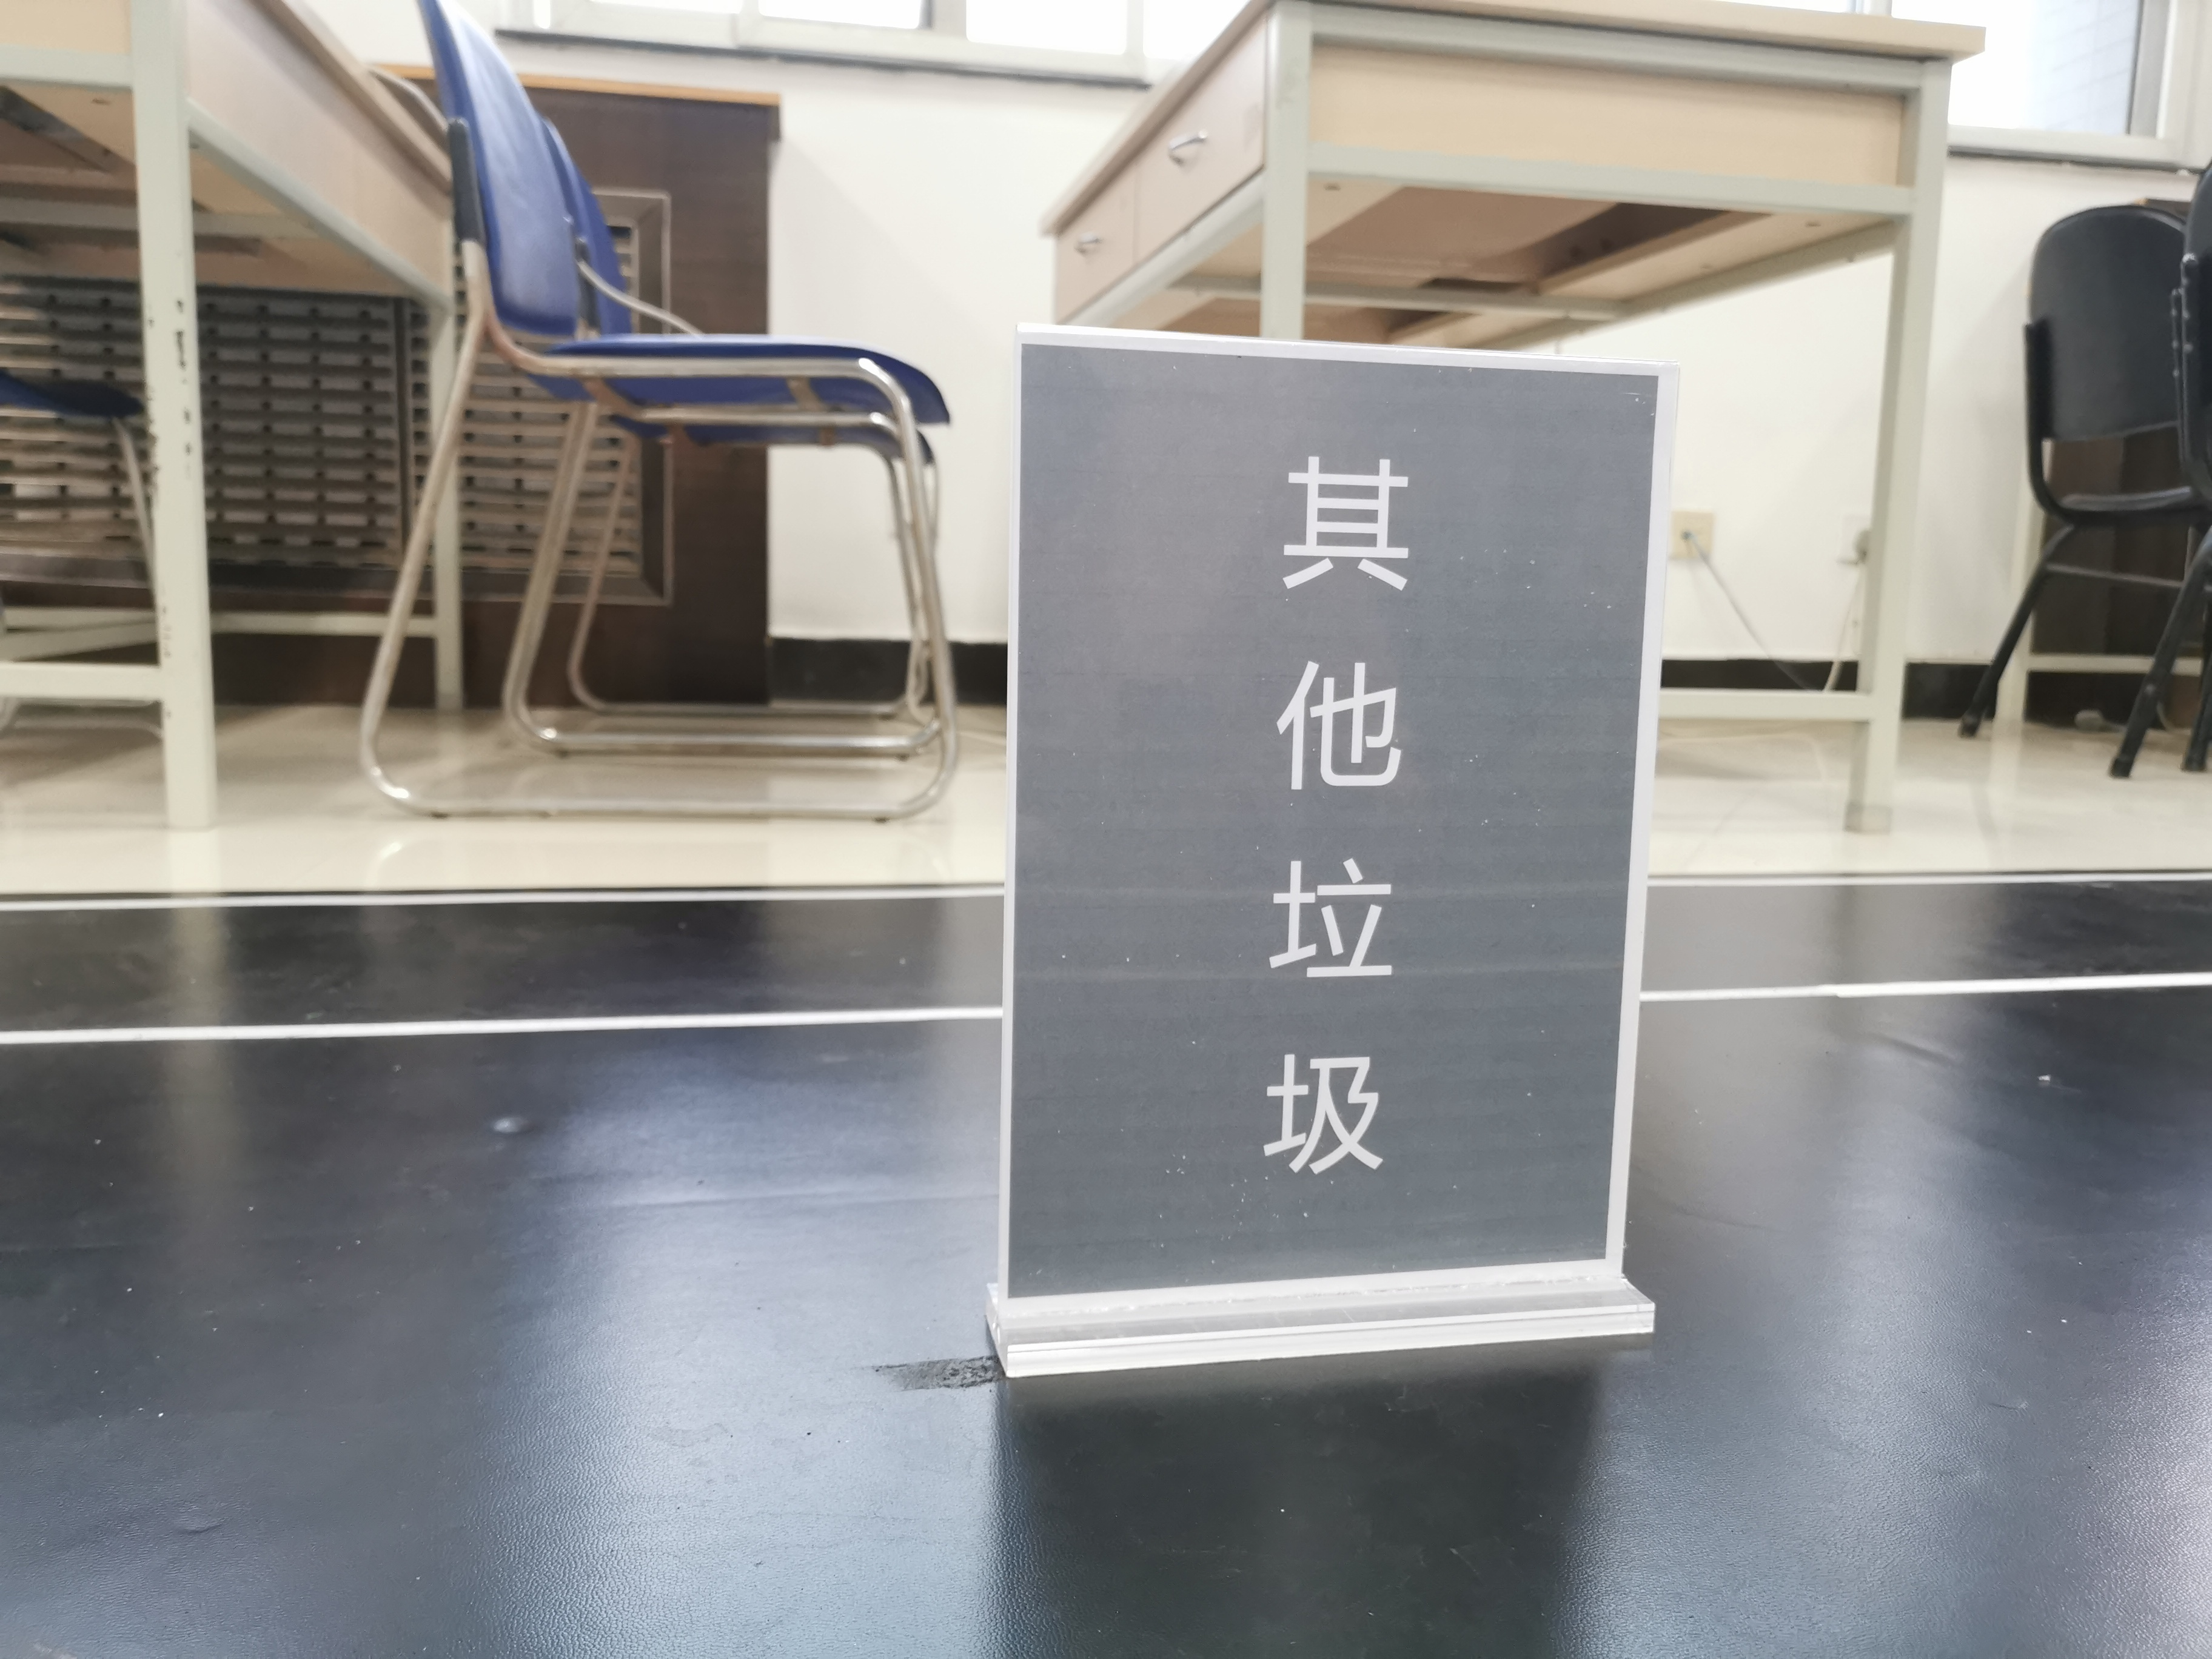black: (1026, 375, 1608, 1249)
